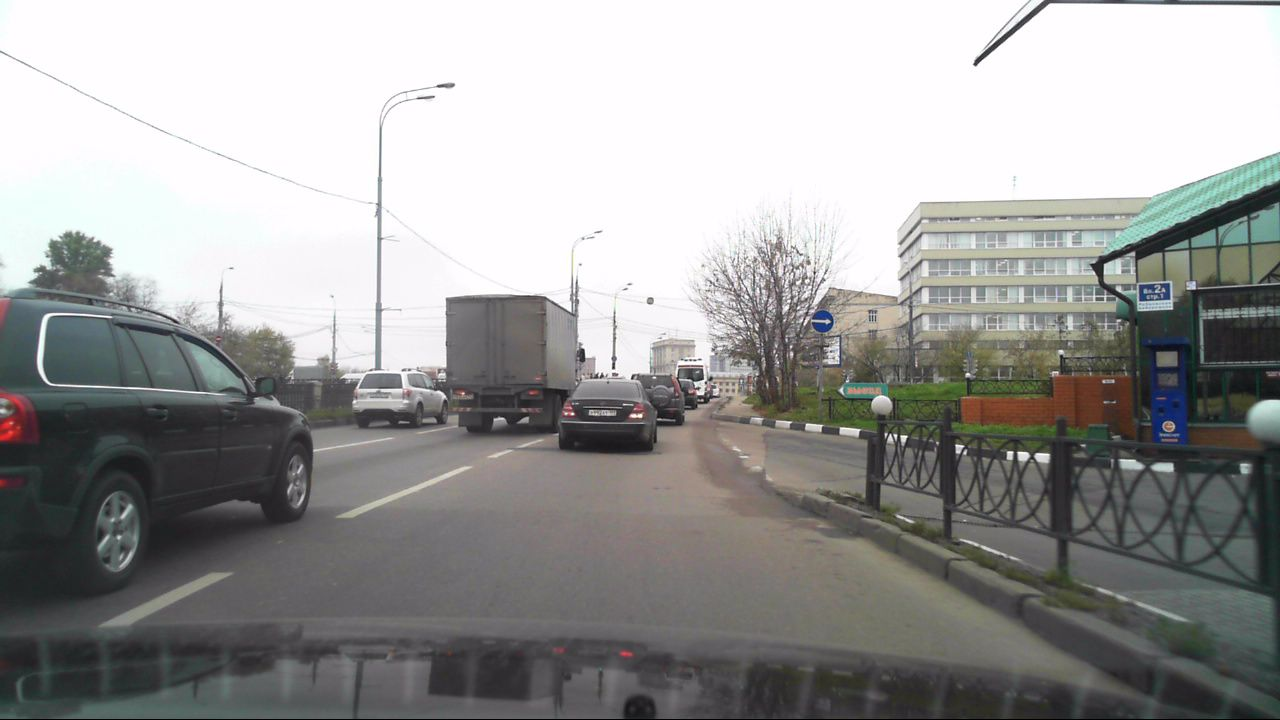Turn Right: (811, 310, 834, 333)
